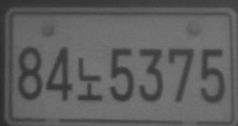3: (138, 47, 164, 103)
4: (45, 46, 73, 101)
5: (109, 47, 135, 103), (199, 48, 225, 103)
7: (168, 47, 194, 102)
8: (16, 45, 43, 100)
노: (77, 57, 102, 101)
